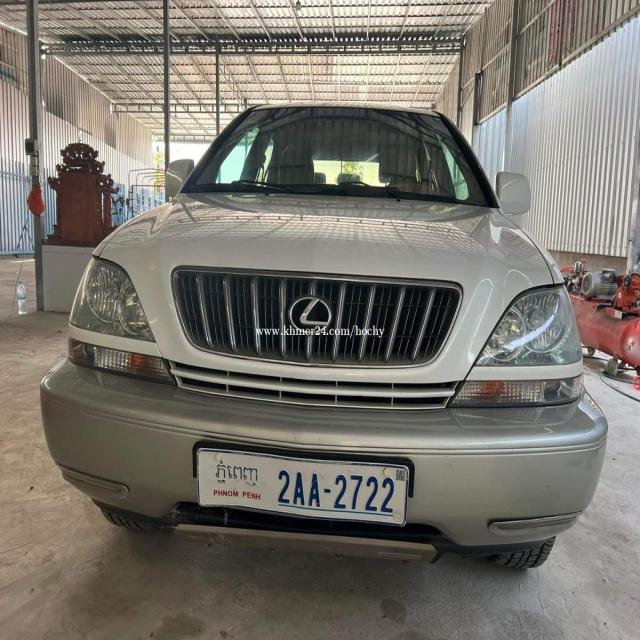Phnom_Penh: (216, 460, 260, 487)
